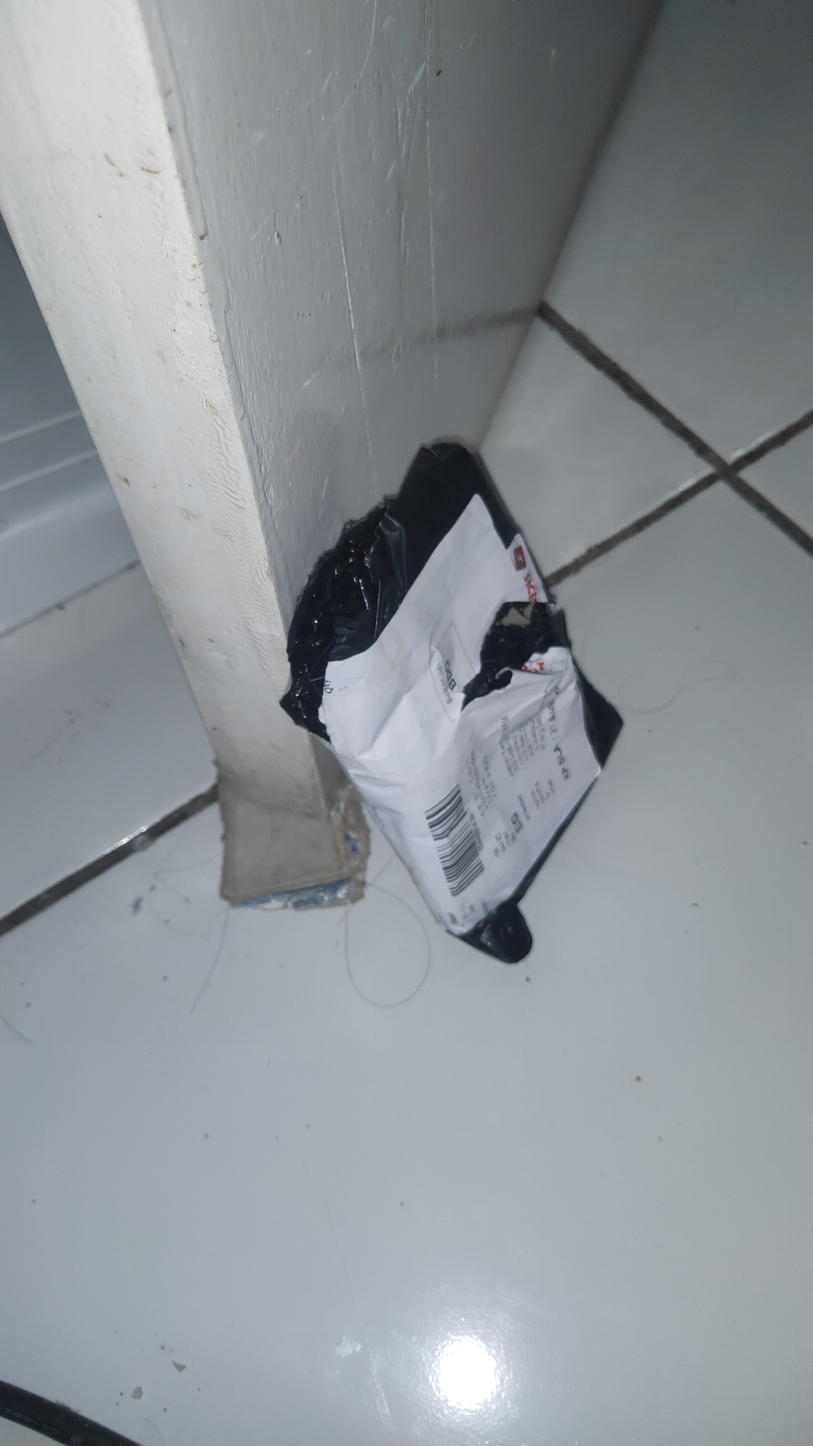damaged package: (459, 594, 564, 717)
undamaged: (284, 439, 623, 968)
